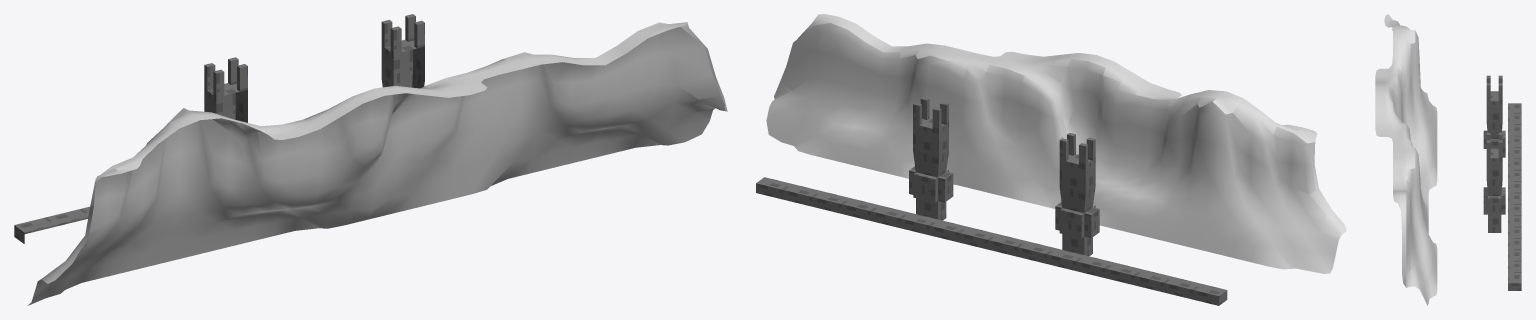
File: temple_fbx.fbx
The picture shows the model from 3 angles, left to right: view 1: azimuth 30°, elevation 25°; view 2: azimuth 150°, elevation 25°; view 3: azimuth 270°, elevation 25°; orthographic projection. The views are drawn at different scales.
Visible parts, largest first — view 1: Plane, Templ1.1, Templ1, Box; view 2: Plane, Box, Templ1, Templ1.1; view 3: Plane, Box, Templ1.1, Templ1.
Part boxes in pixels (<box>): Plane: <box>28,22,727,305</box>; Templ1.1: <box>381,14,424,88</box>; Templ1: <box>204,57,247,122</box>; Box: <box>14,206,89,243</box>; Plane: <box>766,14,1346,273</box>; Box: <box>756,177,1227,305</box>; Templ1: <box>1055,133,1099,256</box>; Templ1.1: <box>909,97,953,220</box>; Plane: <box>1375,14,1437,305</box>; Box: <box>1508,103,1521,290</box>; Templ1.1: <box>1483,132,1505,232</box>; Templ1: <box>1483,75,1505,157</box>.
Bounding box in the file's own units: 3874 × 899 × 1085.
